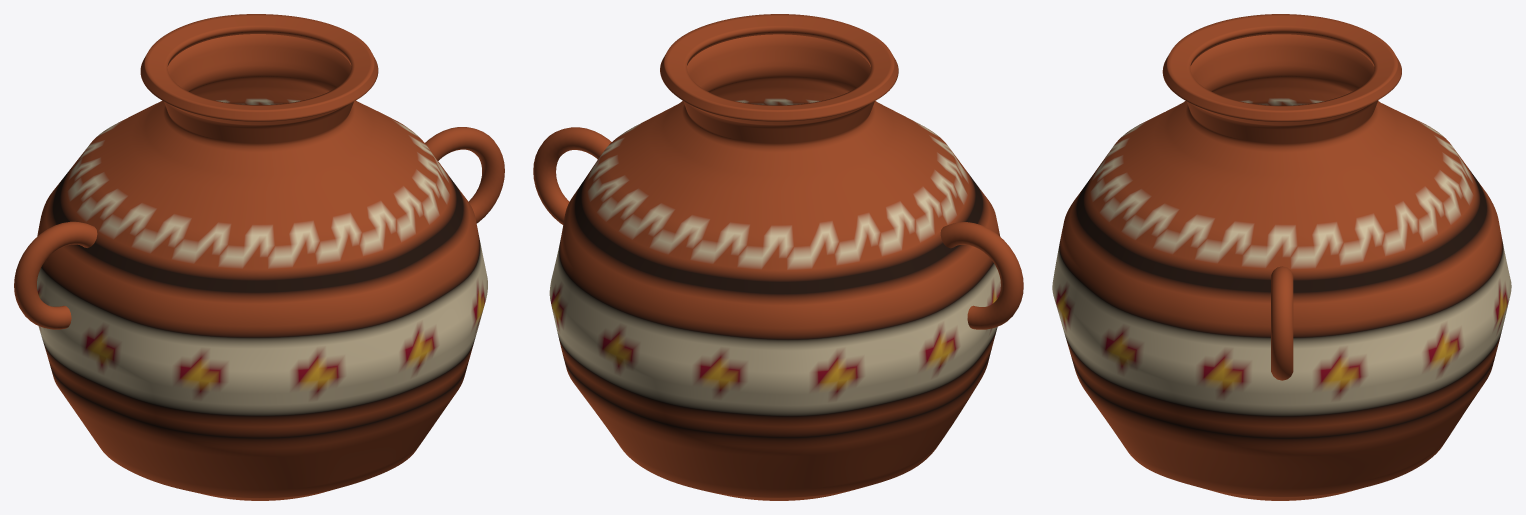
File: cantaro.glb
The picture shows the model from 3 angles, left to right: view 1: azimuth 30°, elevation 25°; view 2: azimuth 150°, elevation 25°; view 3: azimuth 270°, elevation 25°; orthographic projection.
Parts seen in each view (by area): view 1: Cantaro, AsaI, AsaD; view 2: Cantaro, AsaI, AsaD; view 3: Cantaro, AsaD.
Boxes of the visible parts, x1,y1,x2,y2 form: Cantaro: [37, 14, 487, 500]; AsaI: [14, 221, 97, 329]; AsaD: [425, 127, 504, 223]; Cantaro: [549, 14, 1000, 500]; AsaI: [940, 222, 1023, 329]; AsaD: [533, 127, 611, 224]; Cantaro: [1052, 14, 1511, 500]; AsaD: [1271, 266, 1293, 380].
Bounding box in the file's own units: 2.46 × 1.88 × 2.01.
